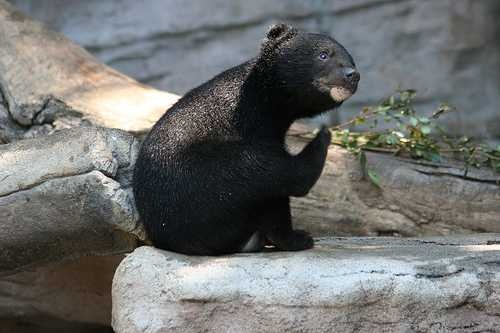bear: (237, 16, 366, 144)
